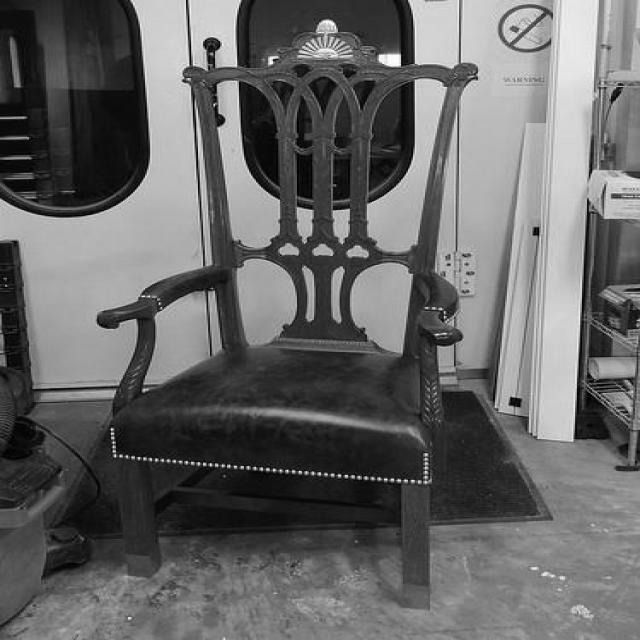chair: (96, 57, 482, 602)
